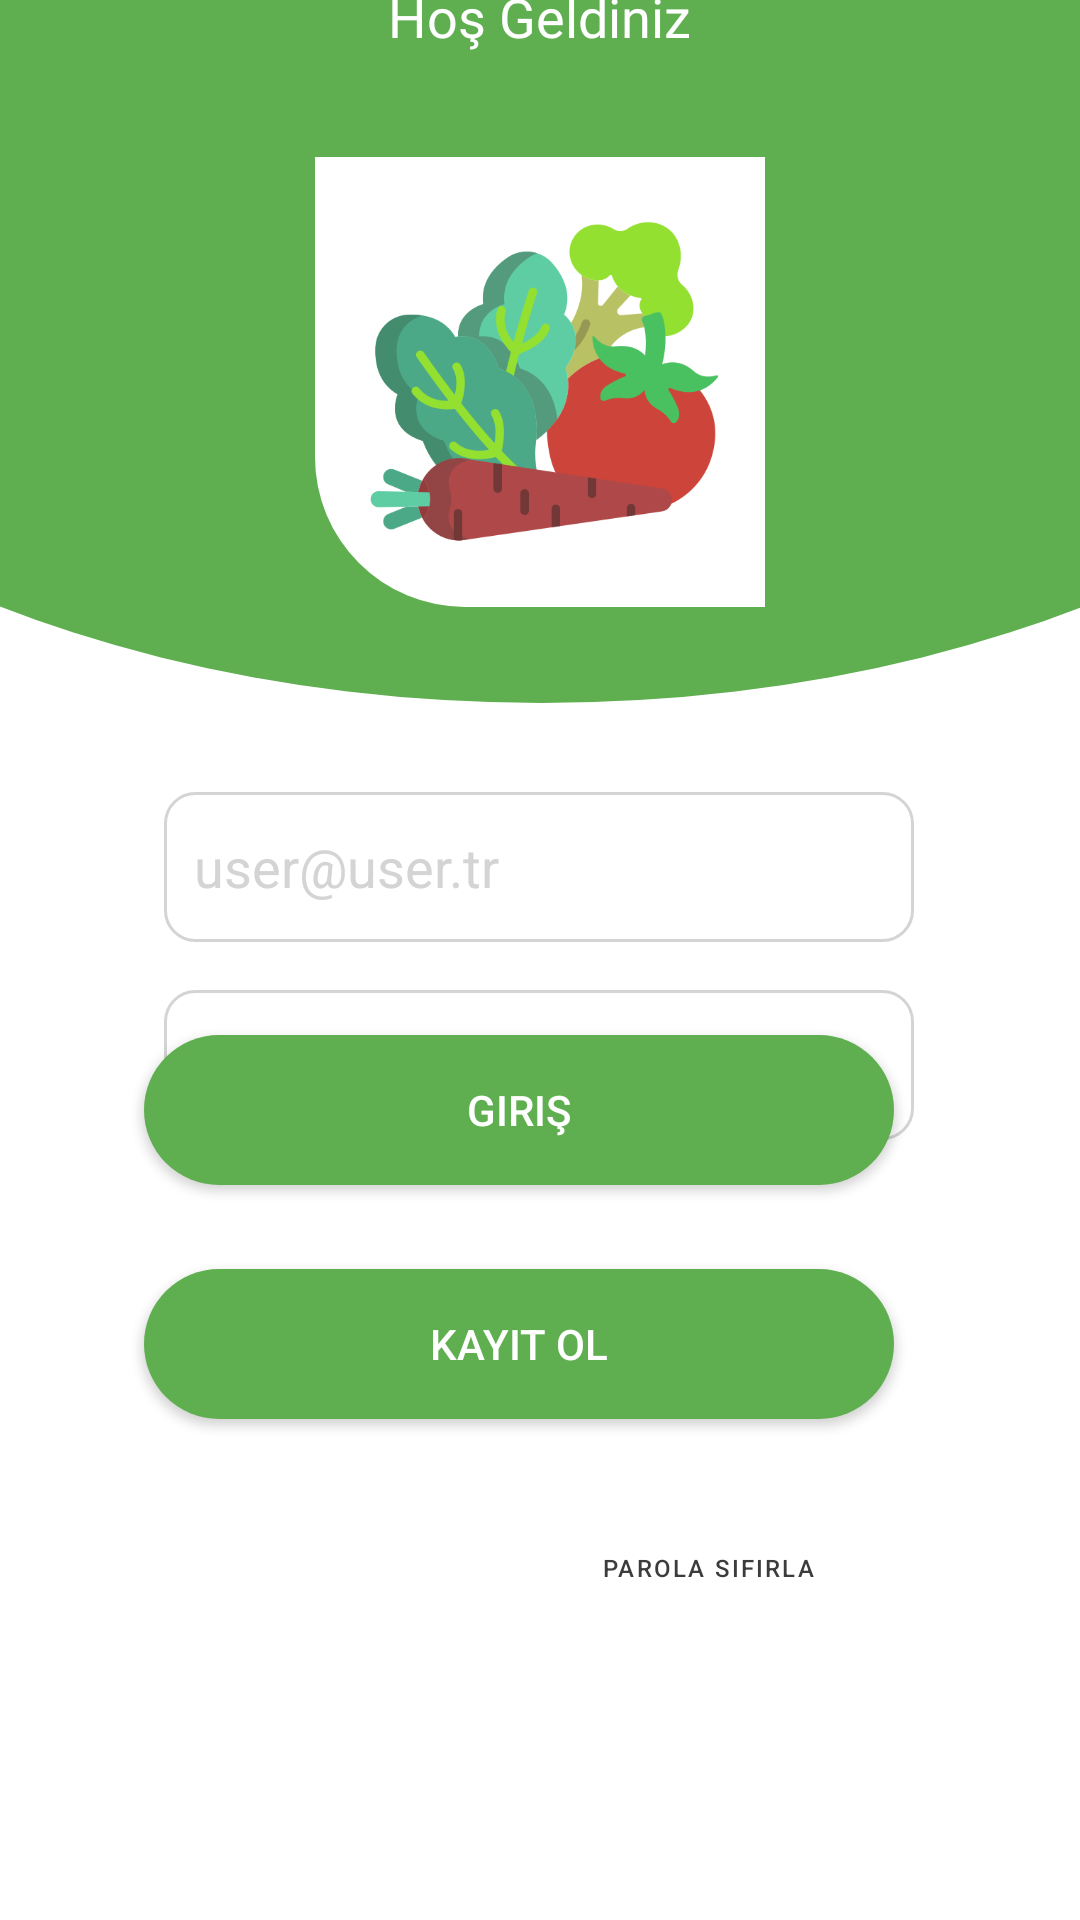

Named icons in this screenshot (1080w x 1920h) and their bounding boxes, (x1, y1, x2, y2):
veg: (370, 222, 718, 541)
